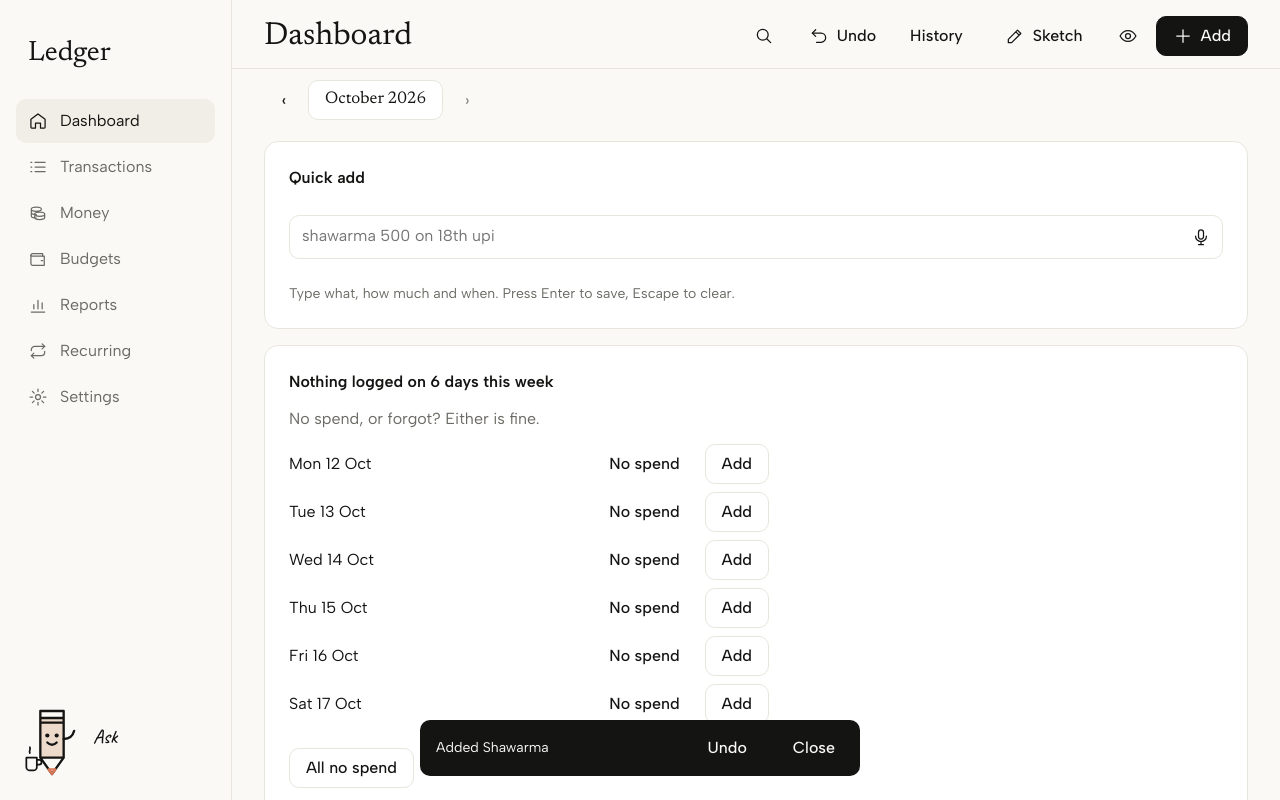
Test: the pencil › Ask opens questions about the page; an answer without a target speaks in the bubble
Expected: the heading "Dashboard" is shown, [264,20,412,52]
Click the button "Ask" at (105,736), box [84,714,126,758]
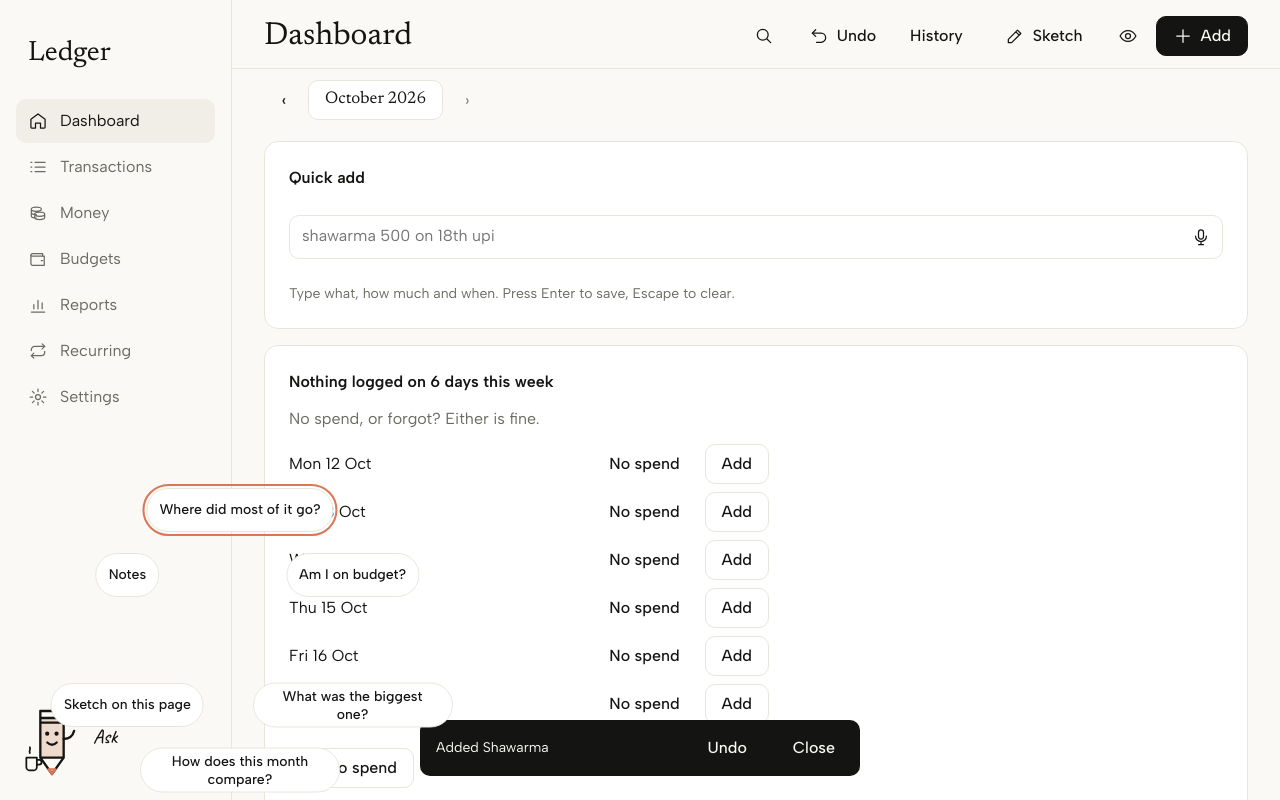
Result: the buttons read "Where did most of it go?", "Am I on budget?", "What was the biggest one?", "How does this month compare?", "Sketch on this page", "Notes", in this order
Click the button "Am I on budget?" at (353,575), box [286,553,419,597]
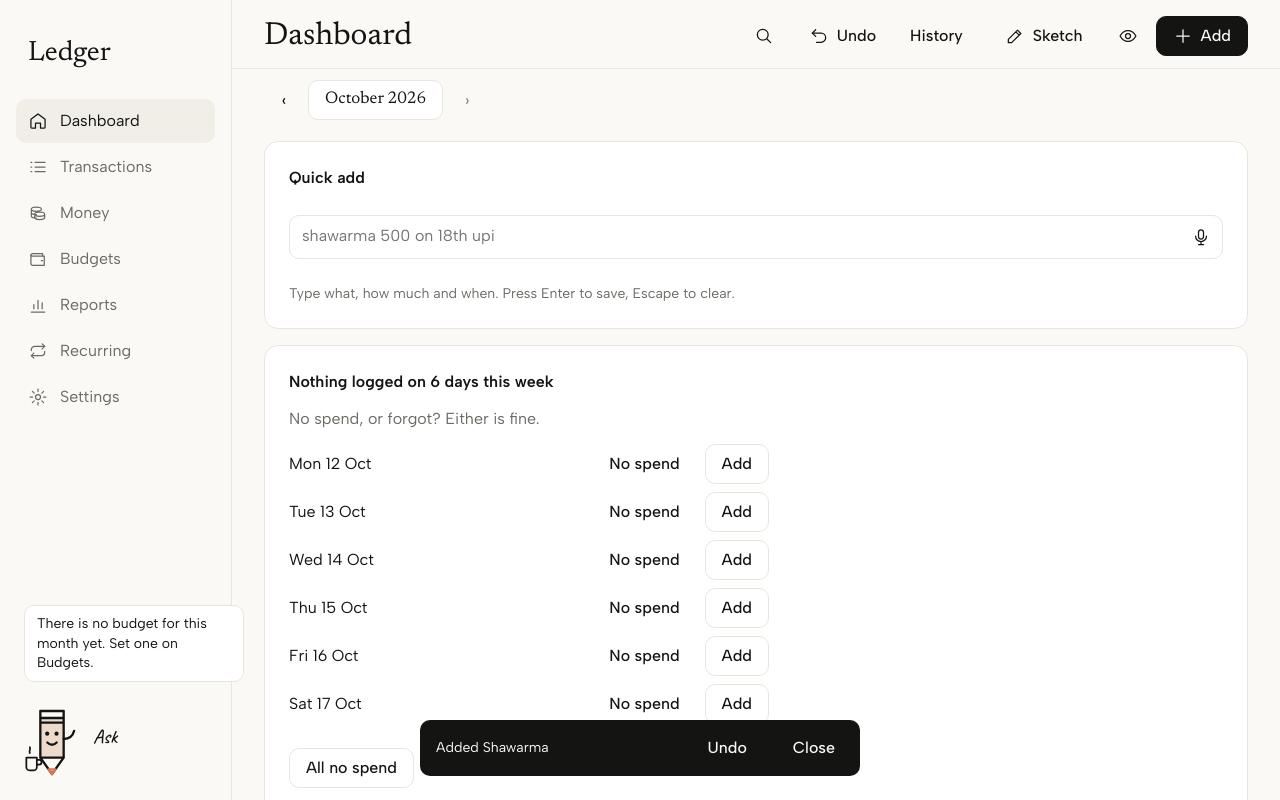
Result: the message with test id "companion-bubble" shows "There is no budget for this month yet." at [37,615,207,671]
